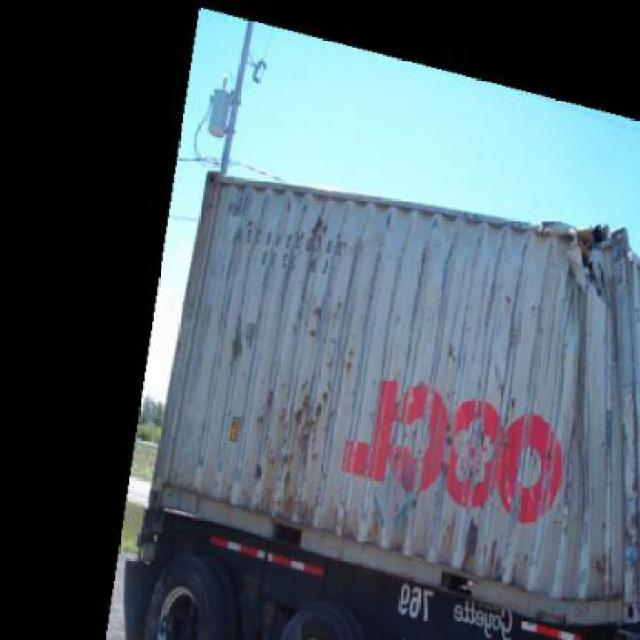hole: (495, 202, 640, 324)
rust: (246, 376, 352, 526), (431, 517, 520, 579)
